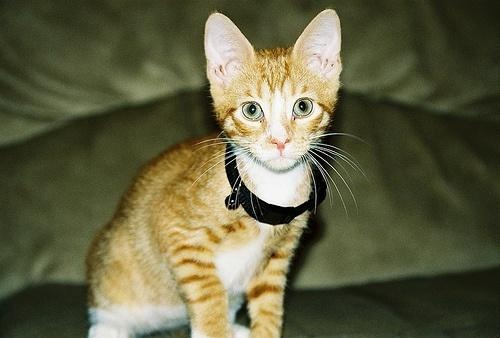cat: (86, 9, 375, 338)
